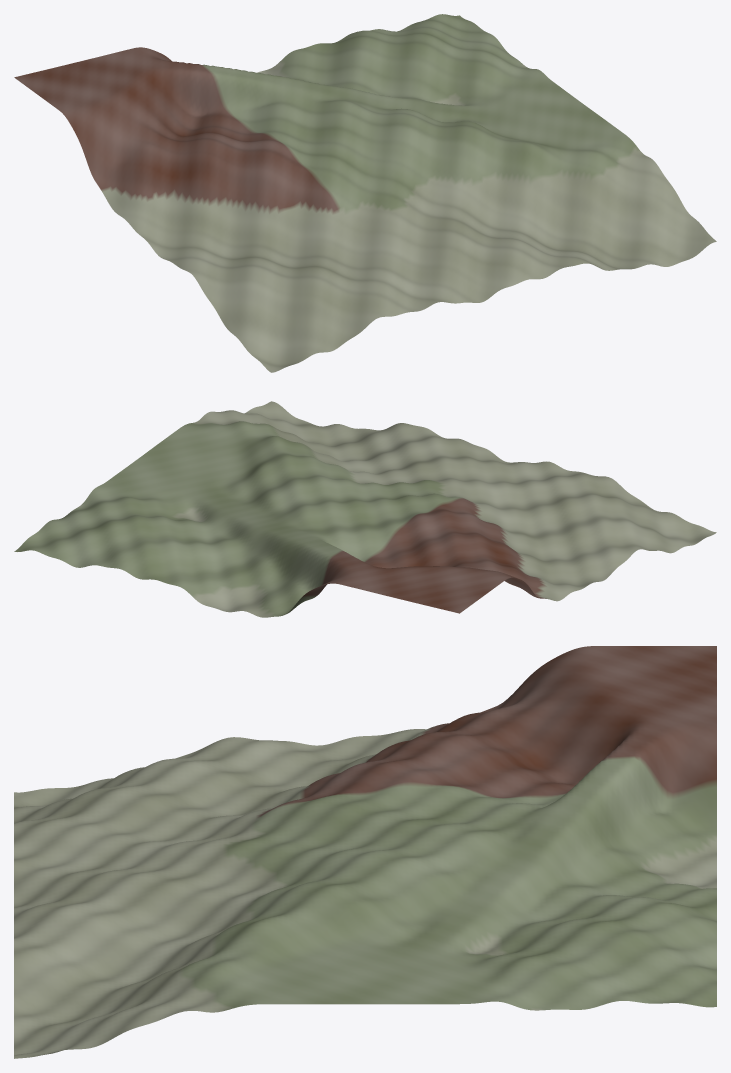
The model's file is terrain_1_0.glb.
3 renders of one model, top to bottom at view 1: azimuth 30°, elevation 25°; view 2: azimuth 150°, elevation 25°; view 3: azimuth 270°, elevation 25°, orthographic. The views are drawn at different scales.
Parts seen in each view (by area): view 1: terrain_1_0; view 2: terrain_1_0; view 3: terrain_1_0.
Part boxes in pixels (x1,y1,x2,y2): terrain_1_0: (14, 14, 716, 372); terrain_1_0: (14, 401, 716, 617); terrain_1_0: (14, 646, 716, 1058).
Size of the model in its own units: 512 by 120 by 512.
